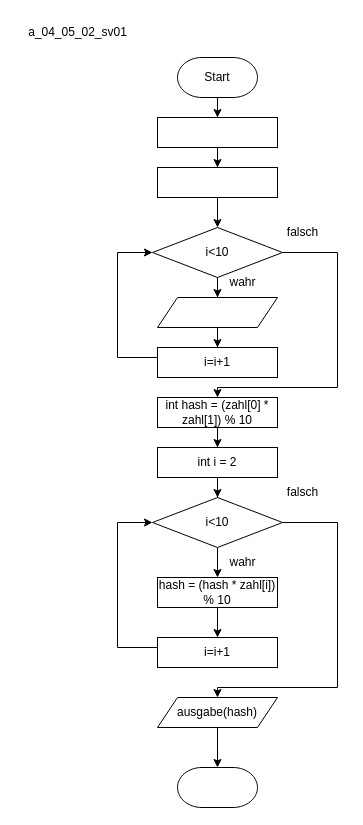
This 363x825 diagram has some shape labels left out. The centre of each missing label's shape, as x and y in pixels:
"Ende" goes at pixel 217 787.
"int i=0" goes at pixel 217 182.
"int zahl[10]" goes at pixel 217 132.
"zahl[i]=eingabe()" goes at pixel 217 312.
